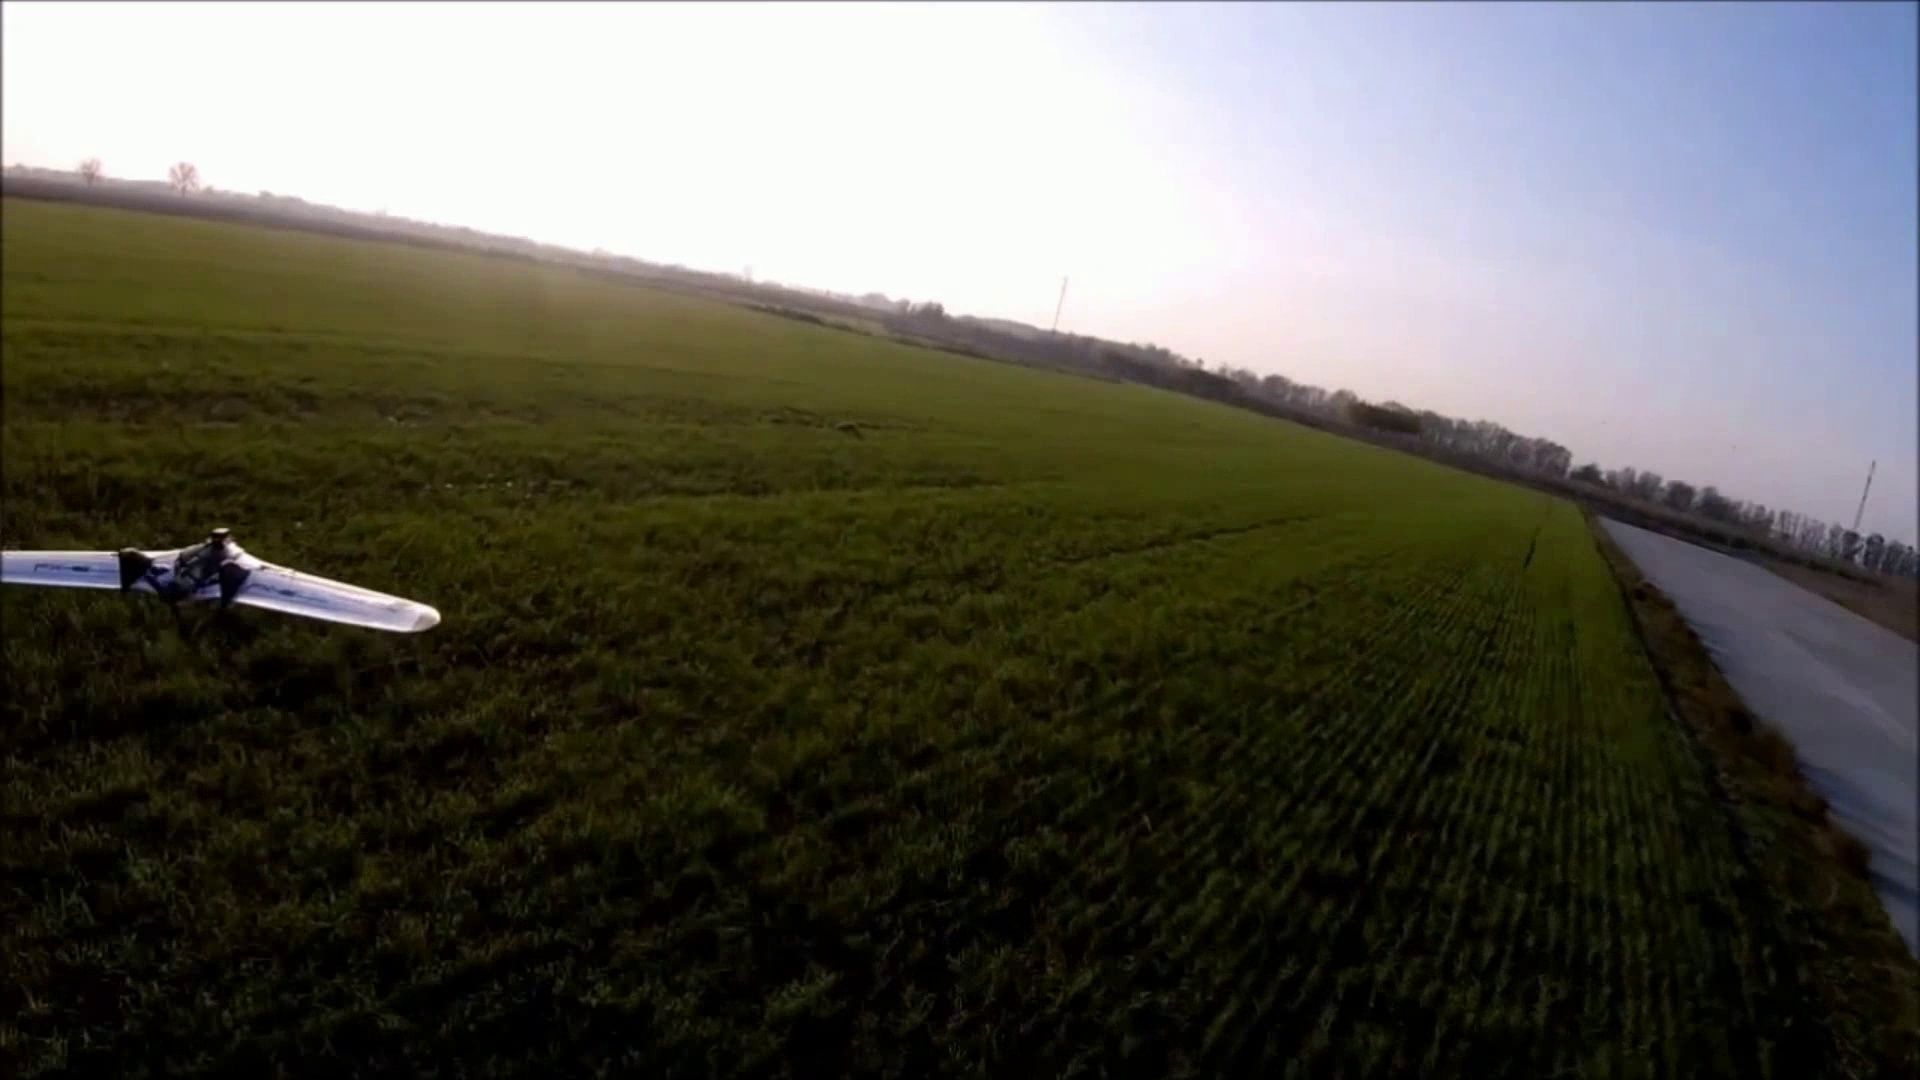airplane: (0, 530, 440, 640)
